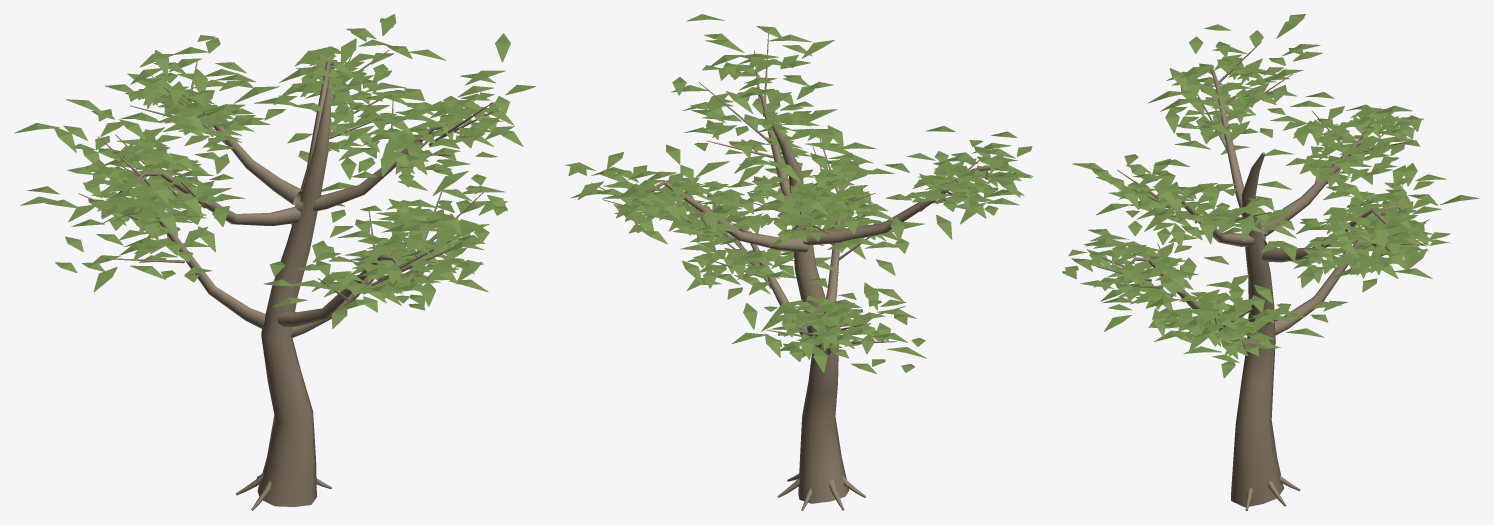
The model's file is canopy_lod1.glb.
The picture shows the model from 3 angles, left to right: view 1: azimuth 30°, elevation 25°; view 2: azimuth 150°, elevation 25°; view 3: azimuth 270°, elevation 25°; orthographic projection. The views are drawn at different scales.
Parts seen in each view (by area): view 1: Leaves, Bark; view 2: Leaves, Bark; view 3: Leaves, Bark.
Boxes of the visible parts, x1,y1,x2,y2 form: Leaves: (14,14,536,328); Bark: (78,49,493,510); Leaves: (565,14,1033,374); Bark: (591,33,1002,510); Leaves: (1062,14,1479,378); Bark: (1093,41,1429,510).
Bounding box in the file's own units: 11.7 × 10.6 × 9.76.
